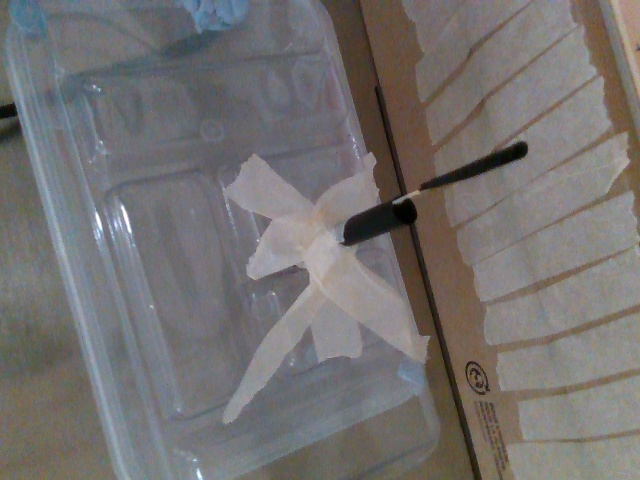test_strip: (391, 140, 525, 207)
